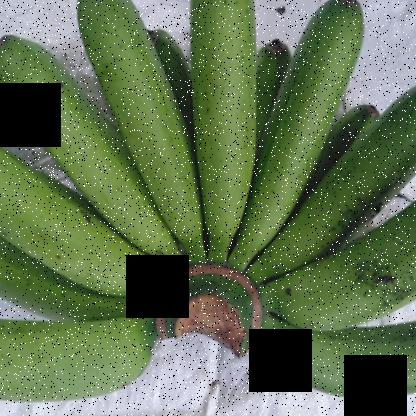unripe: (0, 129, 158, 291), (175, 1, 271, 257), (291, 183, 415, 346), (0, 301, 171, 415), (256, 319, 415, 414)
